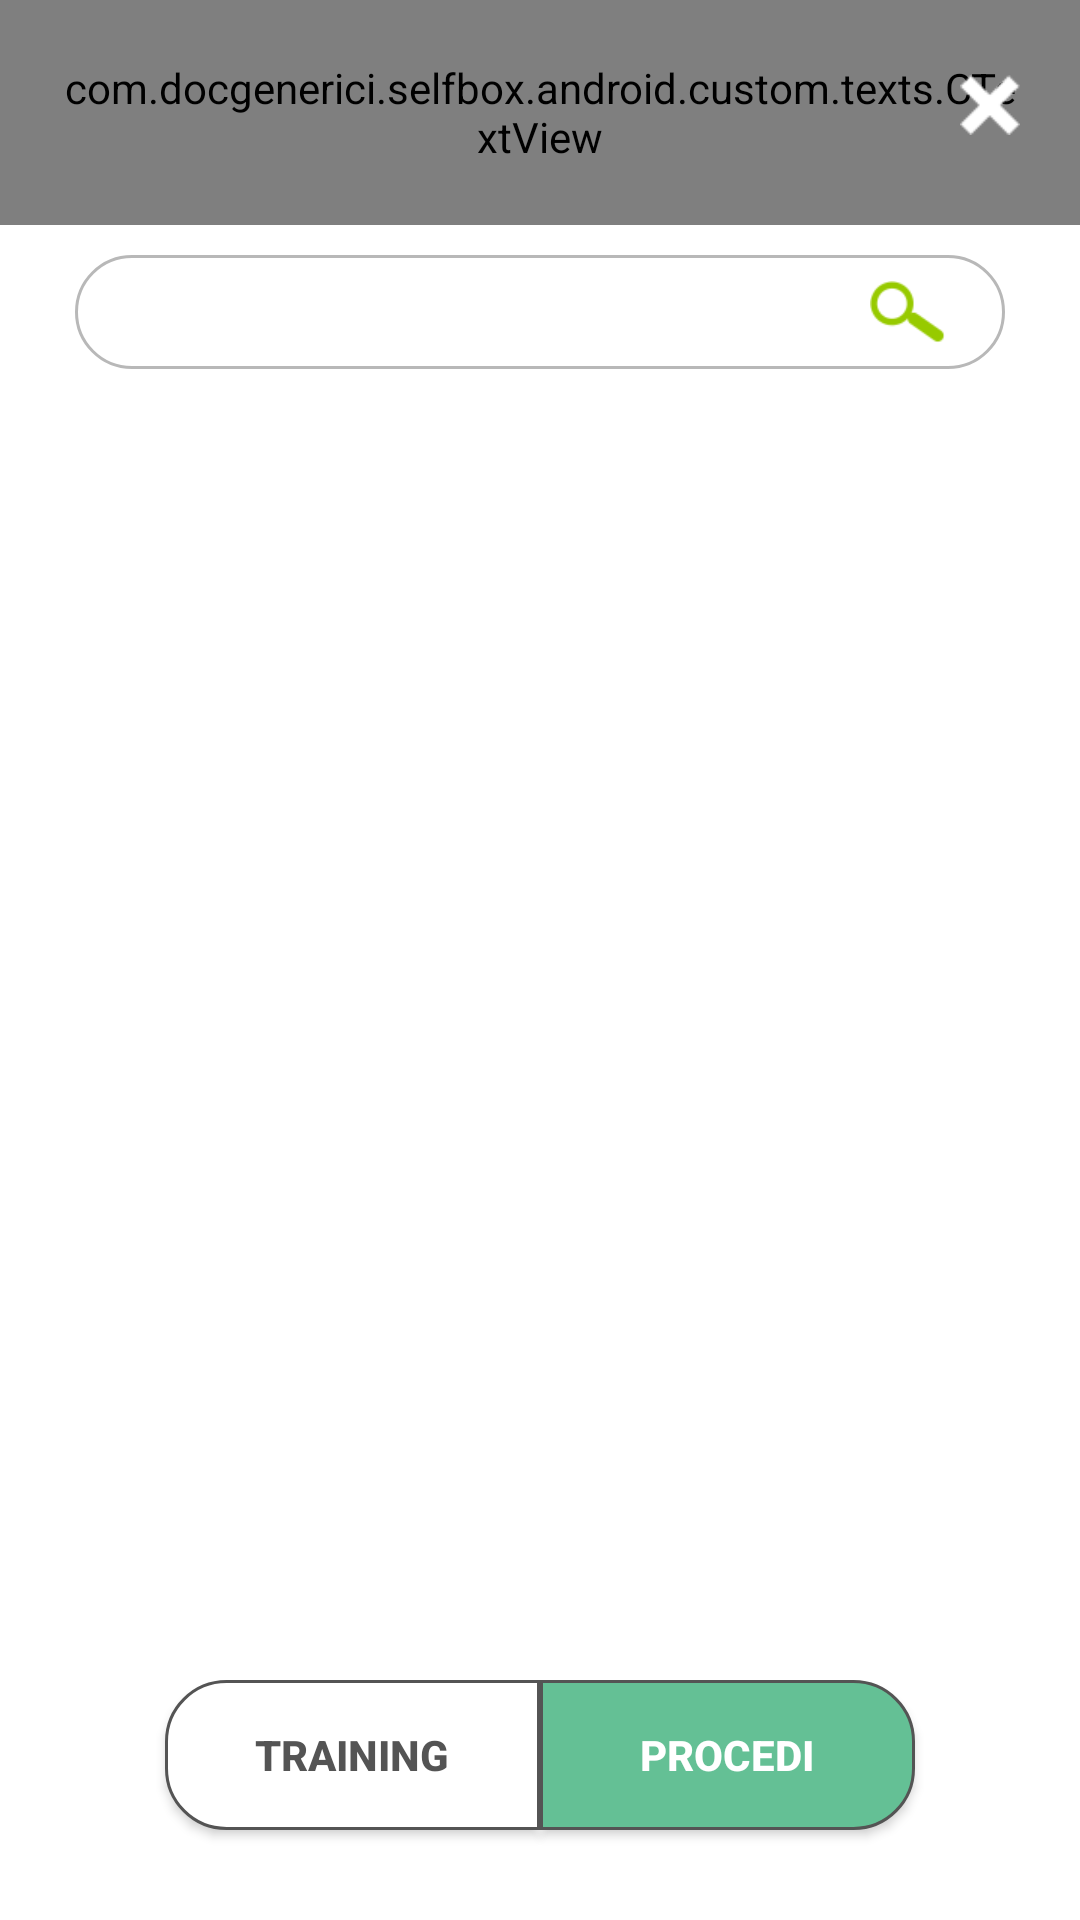

Point at icon controls on the screen. Image size 1080×1920, points as [x,y].
closex: [990,105]
